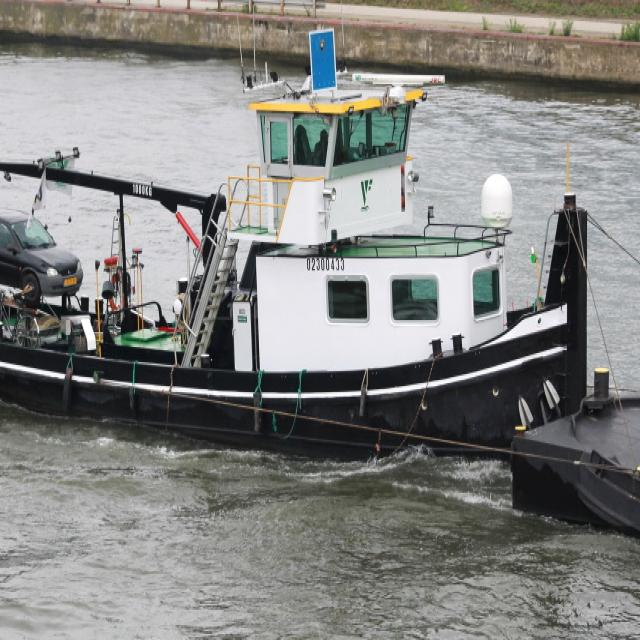tugboat: (1, 22, 594, 485)
